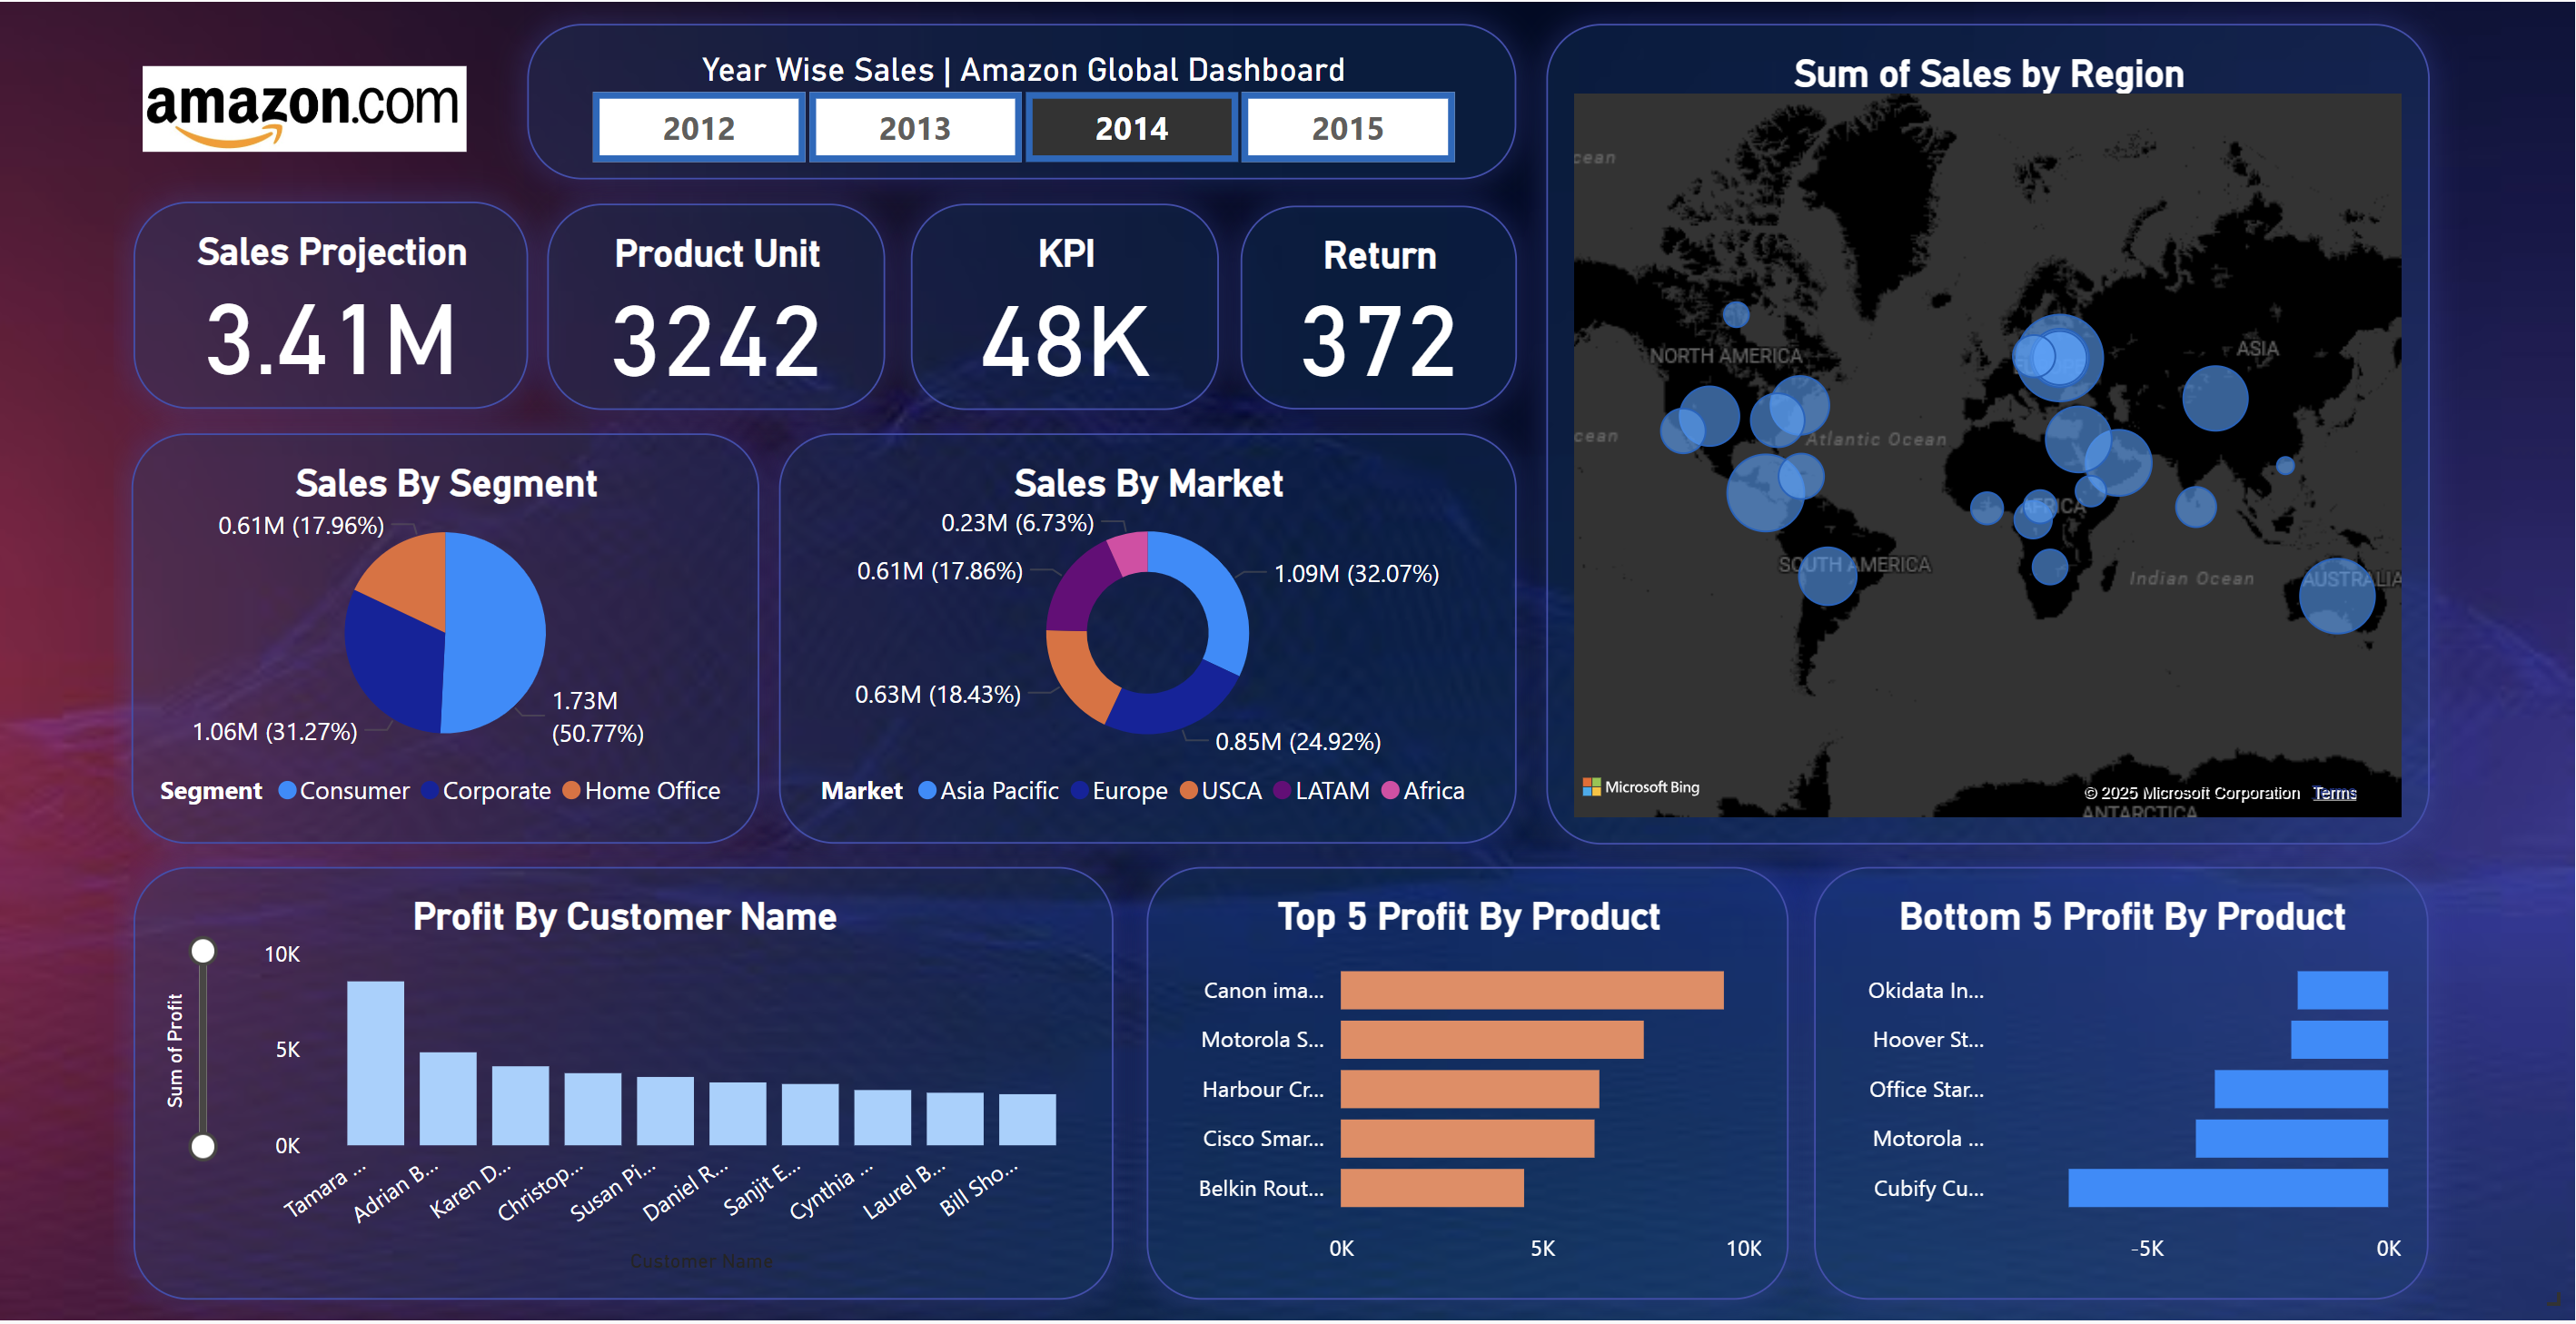

The page's visual inventory and layout, read from the dashboard file:
{"tool":"powerbi","page":{"name":"Project 2","canvas":[1280,720],"ordinal":1},"visuals":[{"type":"slicer","title":"Year Wise Sales | Amazon Global Dashboard","fields":{"Values":["Orders.Year"]},"box":[225.4,11.7,540.2,84.9],"z":0},{"type":"card","title":"Sales Projection","fields":{"Values":["Sum(Orders.Sales)"]},"box":[10.2,109.8,215.2,114.2],"z":1000},{"type":"image","box":[10.2,0,187.4,130.3],"z":2000},{"type":"card","title":"Product Unit","fields":{"Values":["Count(Orders.Product Name)"]},"box":[237.2,109.8,184.5,112.7],"z":3000},{"type":"card","title":"KPI","fields":{"Values":["Sum(Orders.Quantity)"]},"box":[434.8,109.8,168.4,112.7],"z":4000},{"type":"card","title":"Return","fields":{"Values":["Count(Orders.Ship Date)"]},"box":[614.9,111.3,150.8,111.3],"z":5000},{"type":"pieChart","title":"Sales By Segment","fields":{"Category":["Orders.Segment"],"Y":["Sum(Orders.Sales)"]},"box":[10.2,235.7,342.6,224],"z":6000},{"type":"donutChart","title":"Sales By Market","fields":{"Category":["Orders.Market"],"Y":["Sum(Orders.Sales)"]},"box":[363.1,235.7,402.6,224],"z":7000},{"type":"columnChart","title":"Profit By Customer Name","fields":{"Category":["Orders.Customer Name"],"Y":["Sum(Orders.Profit)"]},"box":[10.5,473.1,559.9,247.1],"z":8000},{"type":"clusteredBarChart","title":"Top 5 Profit By Product","fields":{"Y":["Sum(Orders.Profit)"],"Category":["Orders.Product Name"]},"box":[581.2,472.8,354.3,247.4],"z":9000},{"type":"clusteredBarChart","title":"Bottom 5 Profit By Product","fields":{"Y":["Sum(Orders.Profit)"],"Category":["Orders.Product Name"]},"box":[945,473.1,335.1,247.1],"z":10000},{"type":"map","fields":{"Category":["Orders.Region"],"Size":["Sum(Orders.Sales)"]},"box":[781.7,11.7,497.7,448],"z":11000}]}

Visuals, with their boxes on the page's 1280x720 design canvas (x1, y1, x2, y2). These are canvas units, not pixel positions in the 2576x1324 screenshot, which may show the page scaled, cropped or inside an application window:
"Year Wise Sales | Amazon Global Dashboard" slicer: rect(225, 12, 766, 97)
"Sales Projection" card: rect(10, 110, 225, 224)
image: rect(10, 0, 198, 130)
"Product Unit" card: rect(237, 110, 422, 222)
"KPI" card: rect(435, 110, 603, 222)
"Return" card: rect(615, 111, 766, 223)
"Sales By Segment" pieChart: rect(10, 236, 353, 460)
"Sales By Market" donutChart: rect(363, 236, 766, 460)
"Profit By Customer Name" columnChart: rect(10, 473, 570, 720)
"Top 5 Profit By Product" clusteredBarChart: rect(581, 473, 936, 720)
"Bottom 5 Profit By Product" clusteredBarChart: rect(945, 473, 1280, 720)
map - Orders.Region x Sum(Orders.Sales): rect(782, 12, 1279, 460)
